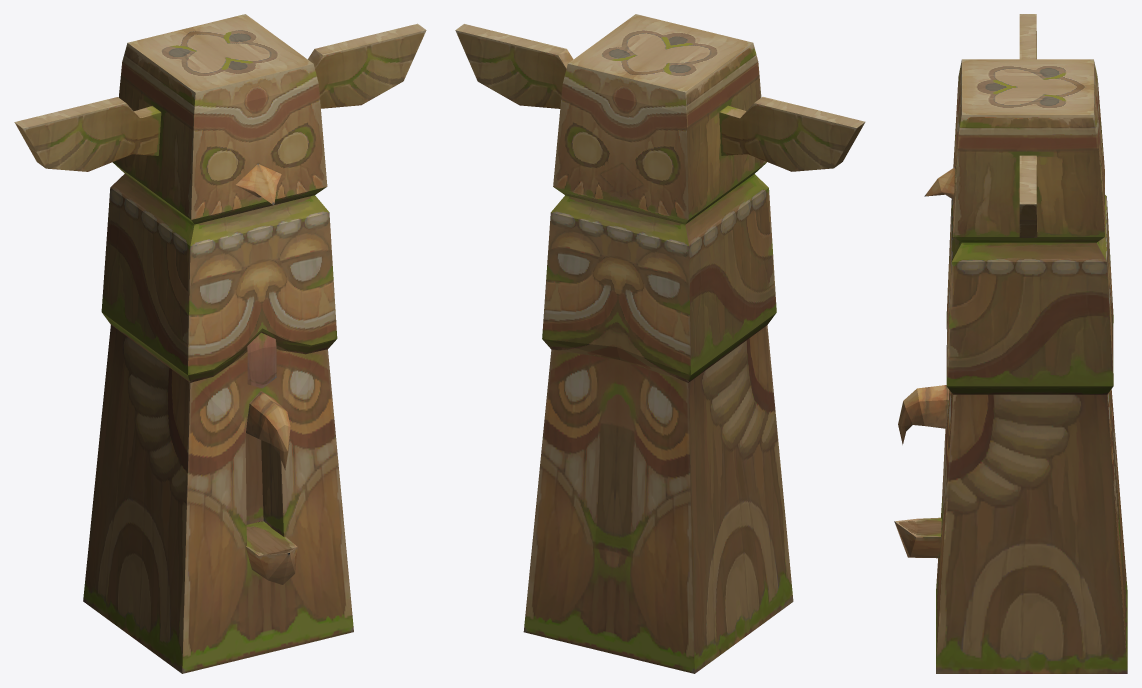
The model's file is Map_07_wooden16.FBX.
3 renders of one model, left to right at view 1: azimuth 30°, elevation 25°; view 2: azimuth 150°, elevation 25°; view 3: azimuth 270°, elevation 25°, orthographic. The views are drawn at different scales.
Visible parts, largest first — view 1: Map_07_wooden16; view 2: Map_07_wooden16; view 3: Map_07_wooden16.
Boxes of the visible parts, bbox=[...] form: Map_07_wooden16: bbox=[14, 14, 426, 673]; Map_07_wooden16: bbox=[455, 14, 865, 673]; Map_07_wooden16: bbox=[894, 14, 1127, 673].
Bounding box in the file's own units: 940 × 1258 × 487.
Materials: 1 (1 with a texture image).
